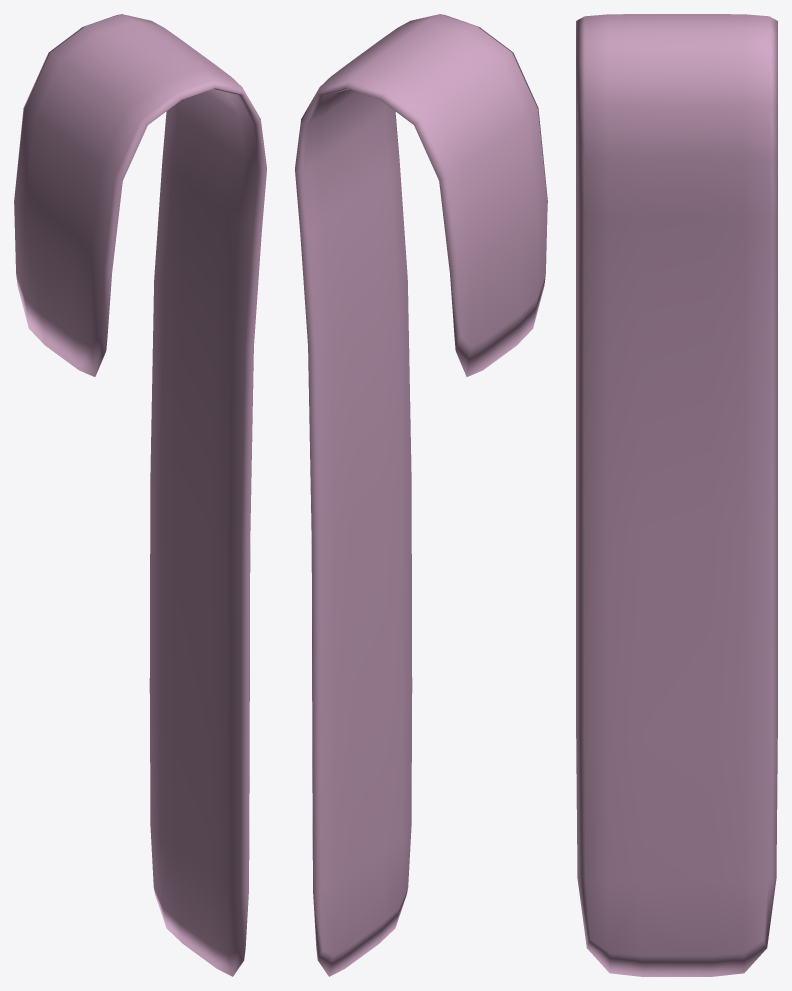
3 views of the same model, side by side, from view 1: azimuth 30°, elevation 25°; view 2: azimuth 150°, elevation 25°; view 3: azimuth 270°, elevation 25° (orthographic).
Visible parts, largest first — view 1: Plane.030; view 2: Plane.030; view 3: Plane.030.
Part boxes in pixels (left/top/right/bottom): Plane.030: left=14, top=14, right=266, bottom=976; Plane.030: left=295, top=14, right=547, bottom=976; Plane.030: left=576, top=14, right=777, bottom=976.
Bounding box in the file's own units: 0.1896 × 1 × 0.1962.
